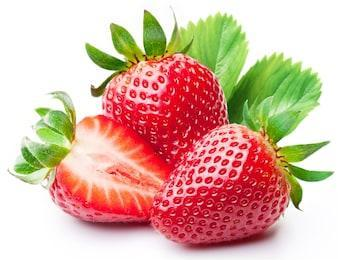Fresa: (147, 118, 295, 252), (98, 43, 240, 171), (44, 109, 176, 230)
